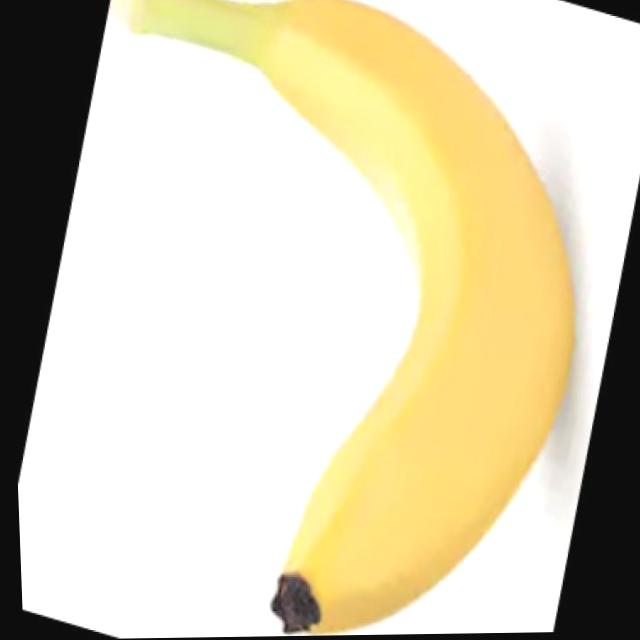Banana: (110, 0, 584, 638)
